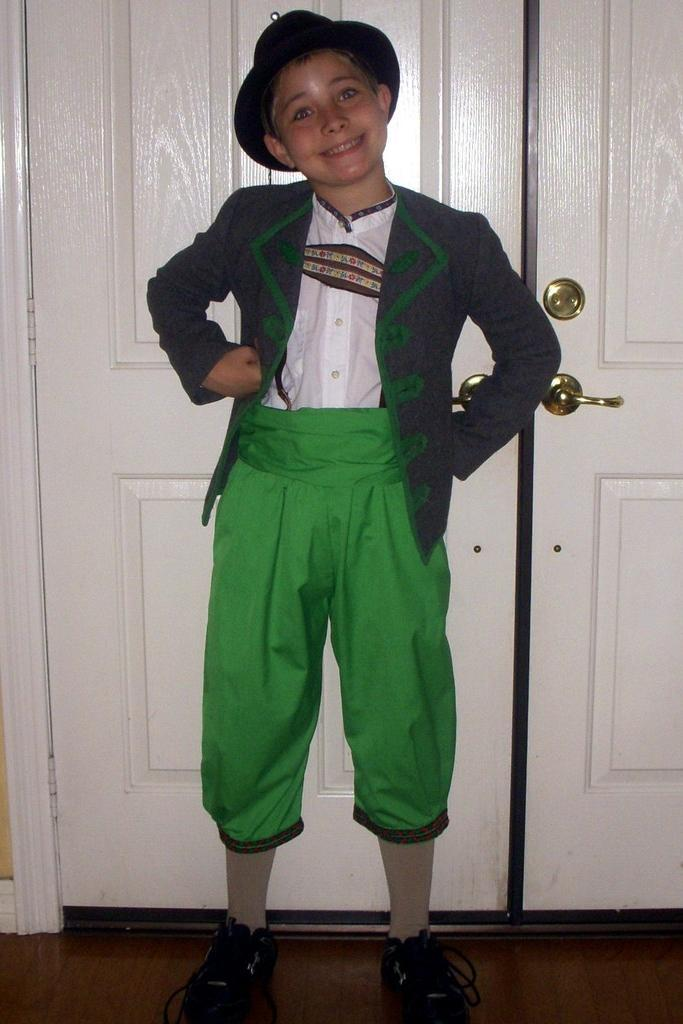door: (64, 7, 518, 909), (527, 10, 683, 904)
handle: (560, 380, 628, 430)
